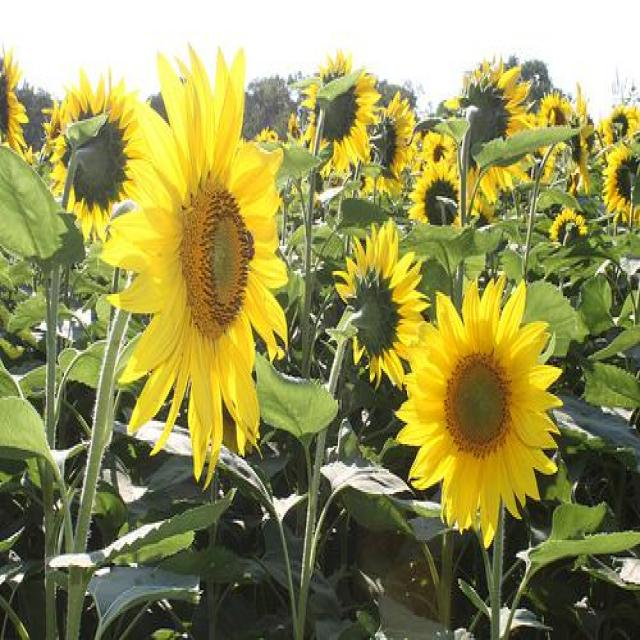sunflower: (102, 40, 287, 488), (398, 270, 562, 548), (46, 68, 142, 241), (334, 217, 428, 390), (459, 59, 532, 198), (304, 51, 380, 168), (367, 91, 424, 181), (407, 162, 466, 234), (0, 43, 29, 154), (604, 139, 640, 228), (567, 86, 591, 188), (601, 108, 639, 146), (422, 130, 456, 165), (540, 89, 572, 125), (525, 144, 552, 185), (552, 209, 586, 239), (287, 113, 301, 141), (255, 127, 268, 142), (266, 130, 278, 142)
